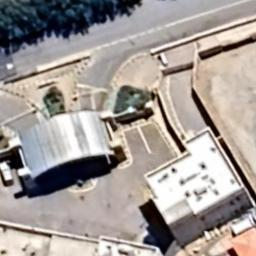van: (0, 161, 13, 183)
